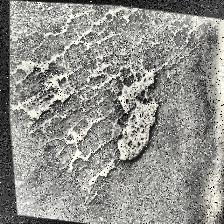pothole: (100, 56, 168, 168)
